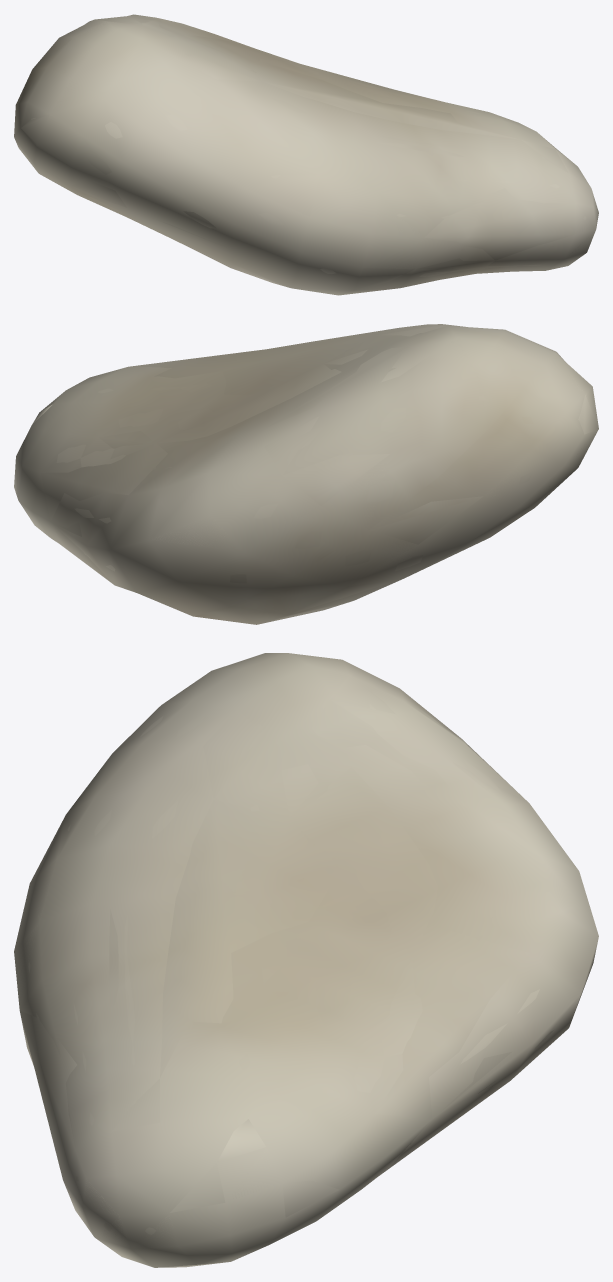
Rendered from R tarsi centrale.fbx.
The picture shows the model from 3 angles, top to bottom: view 1: azimuth 30°, elevation 25°; view 2: azimuth 150°, elevation 25°; view 3: azimuth 270°, elevation 25°; orthographic projection. The views are drawn at different scales.
Parts seen in each view (by area): view 1: R tarsi centrale, R tarsi centrale low, R tarsi centrale high; view 2: R tarsi centrale, R tarsi centrale low, R tarsi centrale high; view 3: R tarsi centrale, R tarsi centrale low, R tarsi centrale high.
Boxes of the visible parts, box(x1,y1,x2,y2) form: R tarsi centrale: box(14, 14, 598, 295); R tarsi centrale low: box(17, 15, 598, 294); R tarsi centrale high: box(28, 21, 586, 277); R tarsi centrale: box(16, 324, 598, 624); R tarsi centrale low: box(14, 326, 598, 623); R tarsi centrale high: box(18, 330, 580, 598); R tarsi centrale: box(14, 653, 598, 1267); R tarsi centrale low: box(14, 660, 586, 1264); R tarsi centrale high: box(28, 679, 553, 1265).
Bounding box in the file's own units: 0.7719 × 0.4015 × 0.5848.
1 material, 1 textured.
